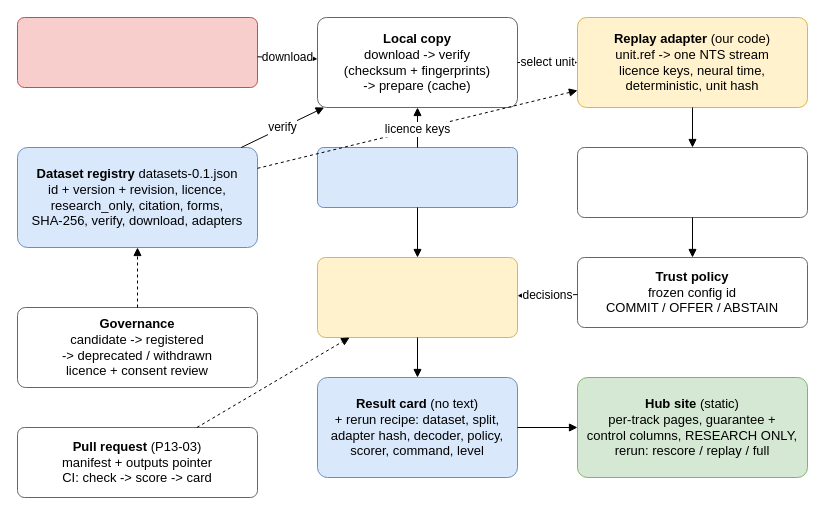
The diagram is 825 pixels wide and 515 high, and some of its shapes have lost their labels. Each missing label, with the centre of its shape:
"Original source Dryad, Hugging Face, Borealis (the hub never re-hosts data)" belongs at [137,52].
"Scorer v0.2 controls: shuffled, zeros, null safe WPM, guarantee, CIs" belongs at [417,297].
"Split file tracks-v0.2 salted hashes only" belongs at [417,177].
"Transport file | LSL | WebSocket same events, same decisions" belongs at [692,182].
